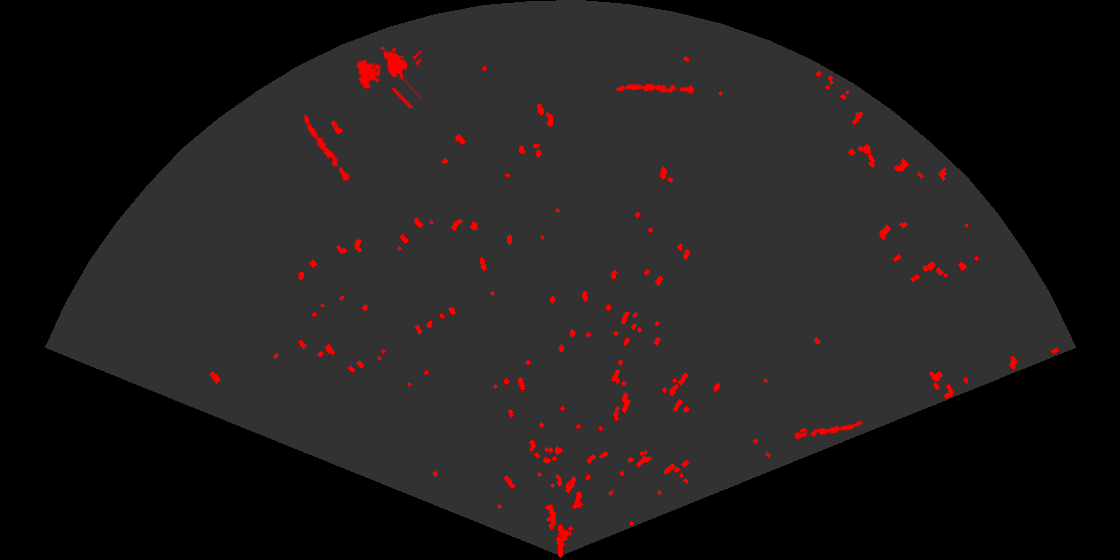cage: (355, 45, 421, 108)
chain: (302, 113, 356, 190), (793, 419, 865, 442), (614, 82, 695, 95)
